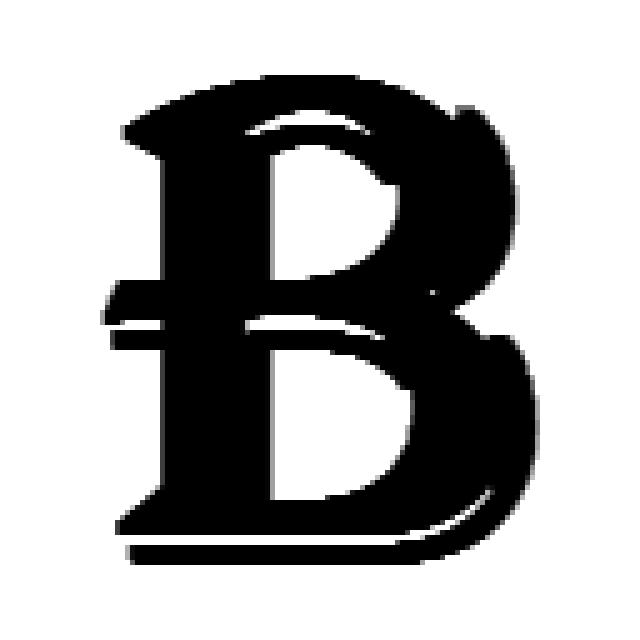B: (105, 75, 540, 570)
